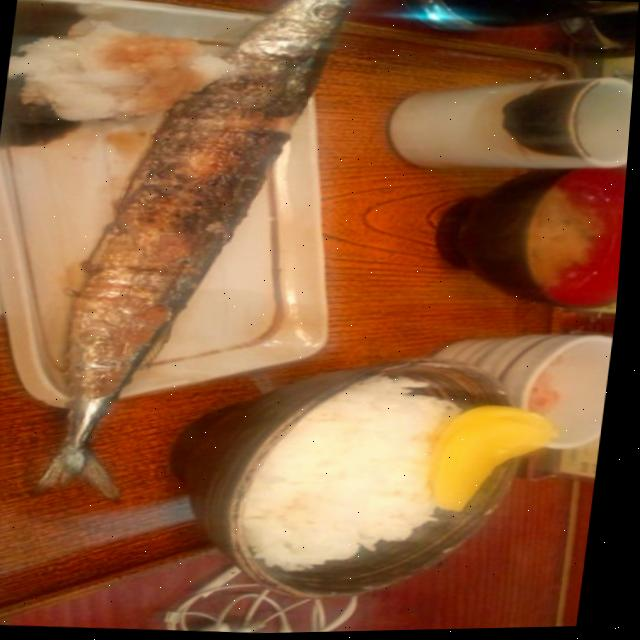汤锅炖物: (514, 168, 630, 307)
熟制海鲜: (44, 0, 362, 529)
米饭主食: (223, 370, 495, 594)
